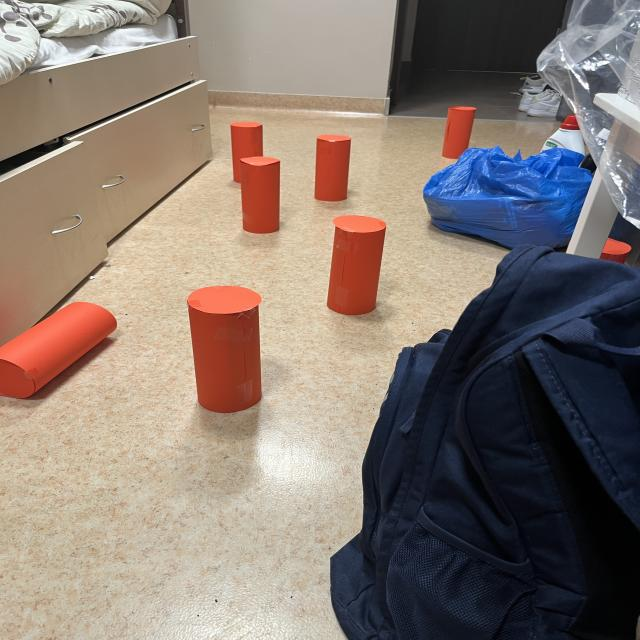przeszkoda: (0, 302, 117, 398), (187, 286, 261, 413), (327, 216, 386, 315), (231, 123, 280, 234), (314, 134, 351, 202), (442, 107, 475, 159)
